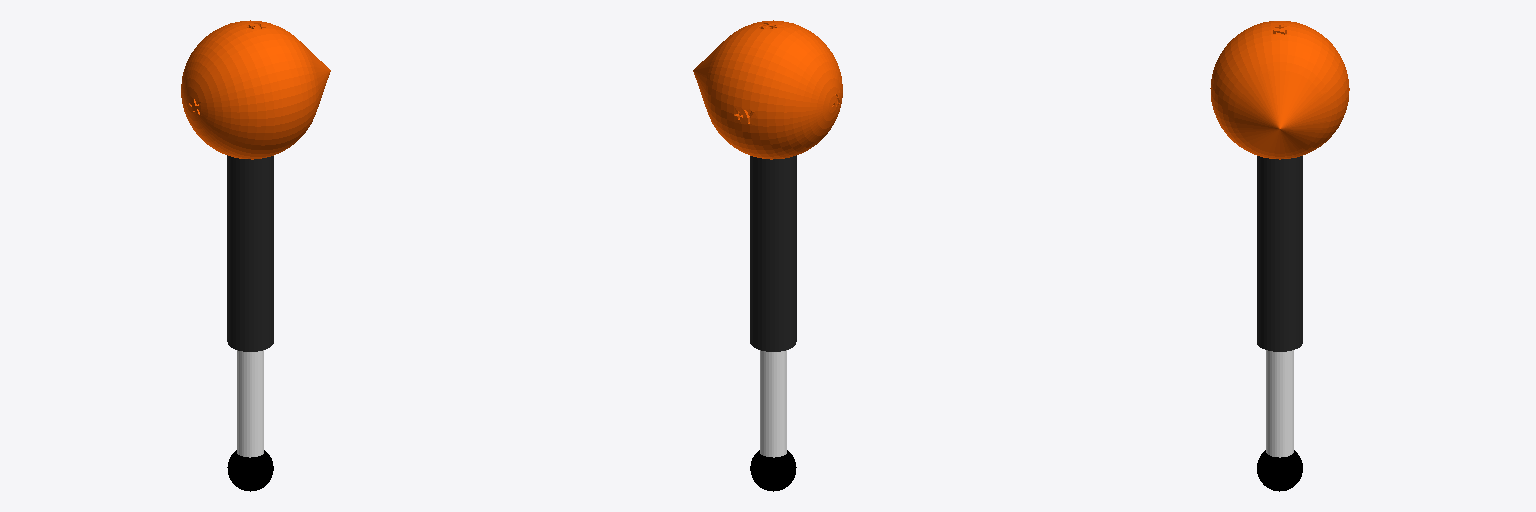
robot.urdf — 3D_SLIP:
<?xml version="1.0"?>
<robot name="3D_SLIP">
  
    <!-- Colors -->
    <material name="orange">
        <color rgba="1.0 0.424 0.047 1.0"/>
    </material>
    <material name="black">
        <color rgba="0 0 0 1.0"/>
    </material>
    <material name="grey">
        <color rgba="0.2 0.2 0.2 0.5"/>
    </material>
    <material name="white">
        <color rgba="1 1 1 0.5"/>
    </material>
    
    <!-- Link: COM Body -->
    <link name="body">
        <inertial>
            <origin xyz="0 0 0" rpy="0 0 0"/>
            <mass value="20"/>
            <inertia ixx="0.045" ixy="0" ixz="0" iyy="0.045" iyz="0" izz="0.045"/>
        </inertial>
        <visual>
            <origin xyz="0 0 0" rpy="0 0 0"/>
            <geometry>
                <mesh filename="../meshes/Body.OBJ"/>
            </geometry>
            <material name="orange"/>
        </visual>
        <collision>
            <origin xyz="0 0 0" rpy="0 0 0"/>
            <geometry>
                <sphere radius="0.075"/>
            </geometry>
        </collision>
    </link>
    
    <!-- Link: Intermmediate Leg Frames -->
    <link name="x_axis_leg"/>
    <link name="y_axis_leg"/>

    <!-- Link: Upper Leg -->
    <link name="leg_upper">
        <inertial>
            <origin xyz="0 0 0" rpy="0 0 0"/>
            <mass value="0.5"/>
            <inertia ixx="0.0001" ixy="0" ixz="0" iyy="0.0001" iyz="0" izz="0.0001"/>
        </inertial>
        <visual>
            <origin xyz="0 0 0" rpy="0 0 0"/>
            <geometry>
                <cylinder radius="0.025" length="0.3"/>
            </geometry>
            <material name="grey"/>
        </visual>
    </link>

    <!-- Joint: COM to Upper Leg -->
    <joint name="leg_roll" type="revolute">
        <origin xyz="0 0 0" rpy="0 0 0"/>
        <parent link="body"/>
        <child link="x_axis_leg"/>
        <axis xyz="1 0 0"/>
        <limit lower="-1.5708" upper="1.5708"/>
    </joint>
    <joint name="leg_pitch" type="revolute">
        <origin xyz="0 0 0" rpy="0 0 0"/>
        <parent link="x_axis_leg"/>
        <child link="y_axis_leg"/>
        <axis xyz="0 1 0"/>
        <limit lower="-1.5708" upper="1.5708"/>
    </joint>
    <joint name="body_to_upper_leg" type="fixed">
        <origin xyz="0 0 -0.15" rpy="0 0 0"/>
        <parent link="y_axis_leg"/>
        <child link="leg_upper"/>
        <axis xyz="0 1 0"/>
    </joint>

    <!-- Link: Lower Leg -->
    <link name="leg_lower">
        <inertial>
            <origin xyz="0 0 0" rpy="0 0 0"/>
            <mass value="0.5"/>
            <inertia ixx="0.0001" ixy="0" ixz="0" iyy="0.0001" iyz="0" izz="0.0001"/>
        </inertial>
        <visual>
            <origin xyz="0 0 0" rpy="0 0 0"/>
            <geometry>
                <cylinder radius="0.015" length="0.3"/>
            </geometry>
            <material name="white"/>
        </visual>
    </link>

    <!-- Joint: Upper Leg to Lower Leg -->
    <joint name="leg_prismatic" type="prismatic">
        <origin xyz="0 0 -0.15" rpy="0 0 0"/>
        <parent link="leg_upper"/>
        <child link="leg_lower"/>
        <axis xyz="0 0 1"/>
        <limit lower="-0.15" upper="0.15"/>
    </joint>

    <!-- Link: Foot -->
    <link name="foot">
        <inertial>
            <origin xyz="0 0 0" rpy="0 0 0"/>
            <mass value="0.1"/>
            <inertia ixx="0.0001" ixy="0" ixz="0" iyy="0.0001" iyz="0" izz="0.0001"/>
        </inertial>
        <visual>
            <origin xyz="0 0 0" rpy="0 0 0"/>
            <geometry>
                <sphere radius="0.025"/>
            </geometry>
            <material name="black"/>
        </visual>
        <collision>
            <origin xyz="0 0 0" rpy="0 0 0"/>
            <geometry>
                <sphere radius="0.025"/>
            </geometry>
        </collision>
    </link>

    <!-- Joint: Lower Leg to Foot -->
    <joint name="leg_to_foot" type="fixed">
        <origin xyz="0 0 -0.15" rpy="0 0 0"/>
        <parent link="leg_lower"/>
        <child link="foot"/>
    </joint>

</robot>

--- Render facts (derived) ---
3 views of the same robot in one strip: view 1: azimuth 30°, elevation 25°; view 2: azimuth 150°, elevation 25°; view 3: azimuth 270°, elevation 25° (orthographic).
Robot: 3D_SLIP — 6 links, 5 joints (2 revolute, 1 prismatic, 2 fixed); root link body; default pose: all joints at 0.
Visible links, largest first — view 1: body, leg_upper, leg_lower, foot; view 2: body, leg_upper, leg_lower, foot; view 3: body, leg_upper, leg_lower, foot.
Link boxes in pixels (left/top/right/bottom): body: left=181, top=20, right=330, bottom=159; leg_upper: left=227, top=155, right=273, bottom=351; leg_lower: left=237, top=350, right=263, bottom=457; foot: left=227, top=450, right=273, bottom=491; body: left=693, top=20, right=842, bottom=159; leg_upper: left=750, top=155, right=796, bottom=351; leg_lower: left=760, top=350, right=786, bottom=457; foot: left=750, top=450, right=796, bottom=491; body: left=1210, top=21, right=1349, bottom=159; leg_upper: left=1257, top=156, right=1302, bottom=351; leg_lower: left=1266, top=350, right=1293, bottom=457; foot: left=1257, top=450, right=1302, bottom=491.
Bounding box of the posed robot: 0.175 × 0.1499 × 0.55 m (x, y, z).
1 mesh visuals loaded from 1 distinct referenced files (1 OBJ).